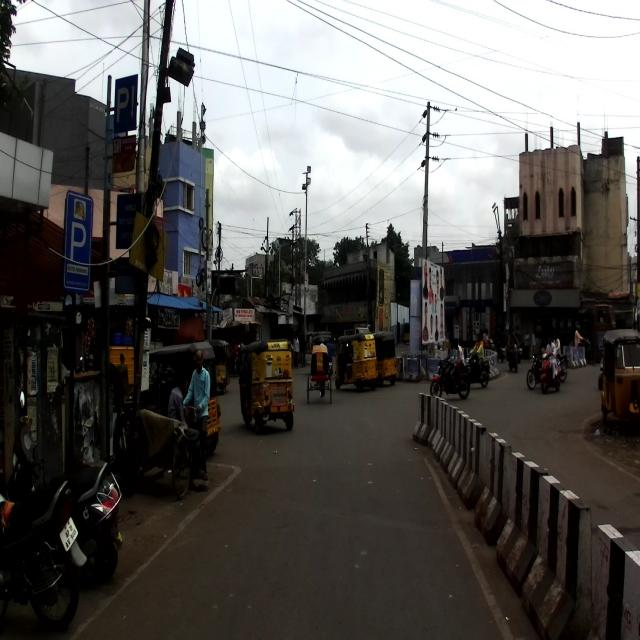autorickshaw: (146, 334, 221, 455), (238, 338, 295, 432)
motorcycle_Yamaha: (0, 478, 89, 632)
scooter: (1, 391, 123, 577)
